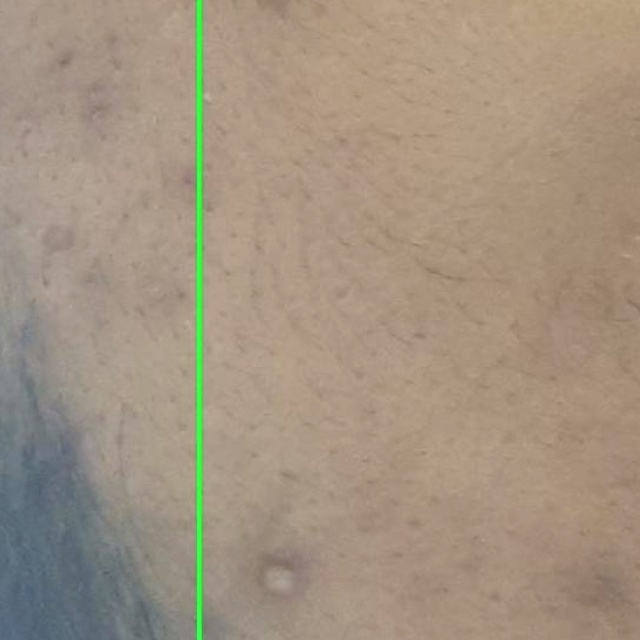Seborrheic Dermatitis: (0, 0, 199, 639)
